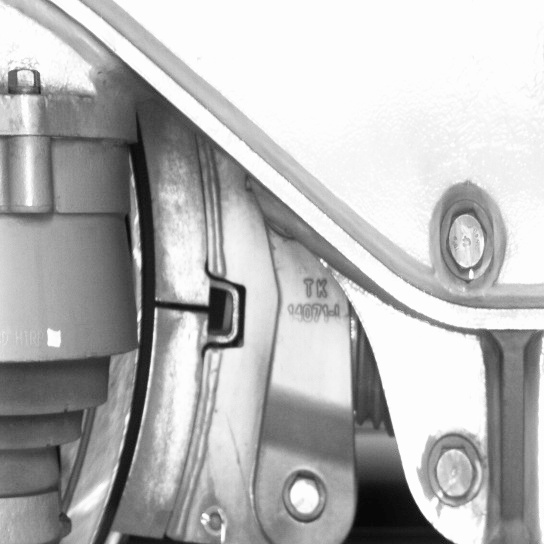KnifeSwitch: (84, 137, 229, 542)
